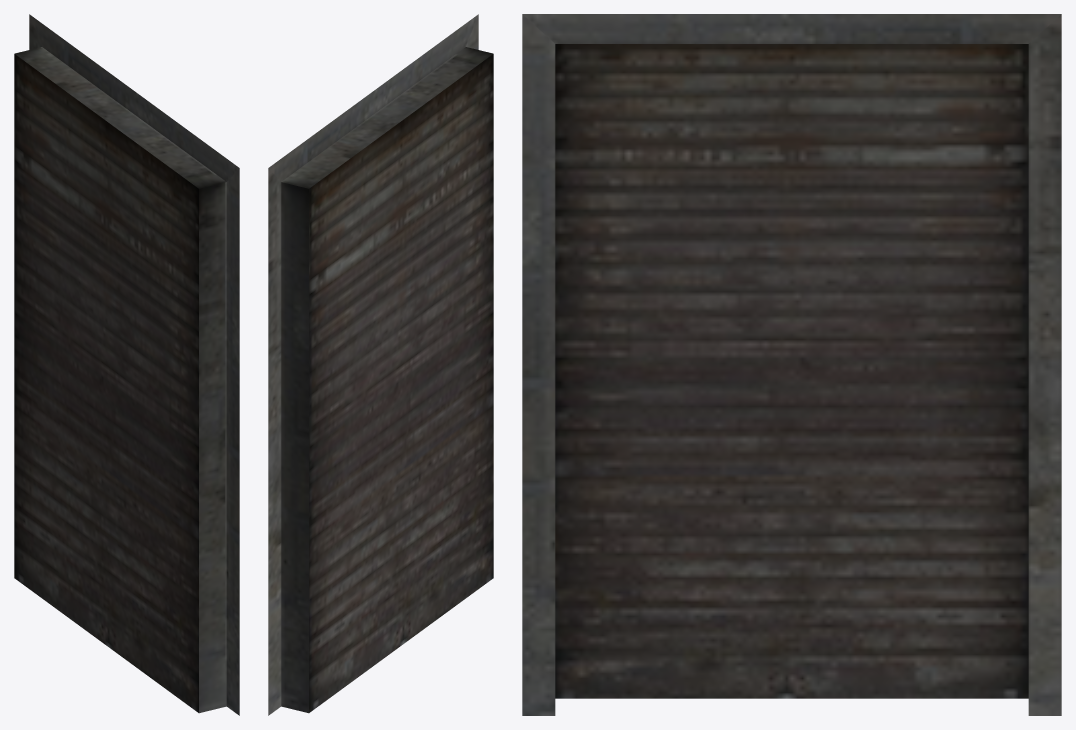
Rendered from Shutter_02.FBX.
The picture shows the model from 3 angles, left to right: view 1: azimuth 30°, elevation 25°; view 2: azimuth 150°, elevation 25°; view 3: azimuth 270°, elevation 25°; orthographic projection. The views are drawn at different scales.
Visible parts, largest first — view 1: Shutter_02; view 2: Shutter_02; view 3: Shutter_02.
Boxes of the visible parts, x1=… form: Shutter_02: x1=14, y1=14, x2=239, y2=715; Shutter_02: x1=268, y1=14, x2=493, y2=715; Shutter_02: x1=522, y1=14, x2=1061, y2=715.
Size of the model in its own units: 18.62 by 351 by 244.
